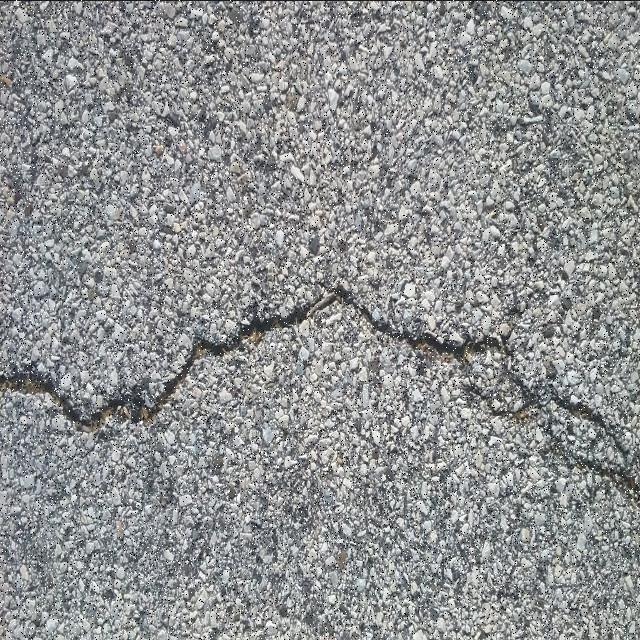Crack: (0, 274, 640, 509)
